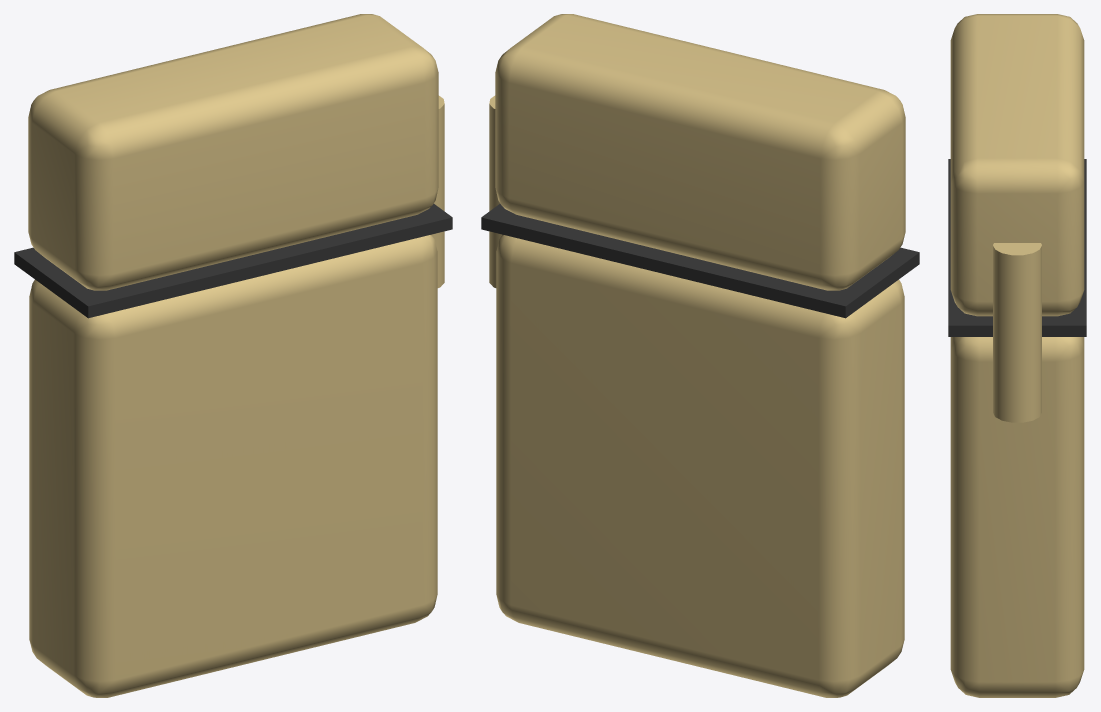
Rendered from lighter.glb.
The picture shows the model from 3 angles, left to right: view 1: azimuth 30°, elevation 25°; view 2: azimuth 150°, elevation 25°; view 3: azimuth 270°, elevation 25°; orthographic projection. The views are drawn at different scales.
Parts seen in each view (by area): view 1: Lighter, Lid; view 2: Lighter, Lid; view 3: Lighter, Lid.
Part boxes in pixels (<box>): Lighter: <box>14,95,452,697</box>; Lid: <box>28,14,438,290</box>; Lighter: <box>481,95,919,697</box>; Lid: <box>495,14,905,290</box>; Lighter: <box>948,159,1086,697</box>; Lid: <box>950,14,1084,316</box>.
Size of the model in its own units: 0.041 by 0.0579 by 0.0135.
